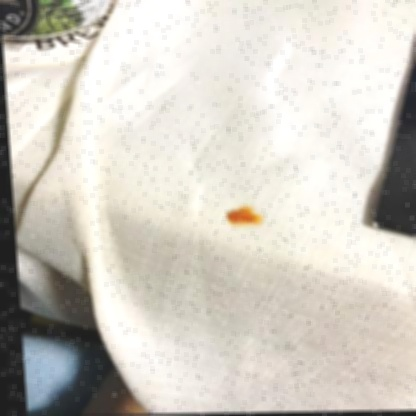kimchi: (225, 203, 269, 229)
